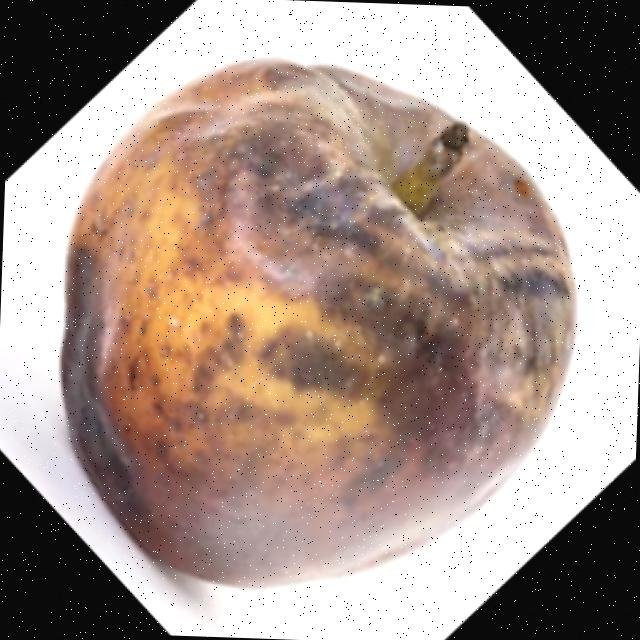Rotten: (49, 40, 594, 605)
